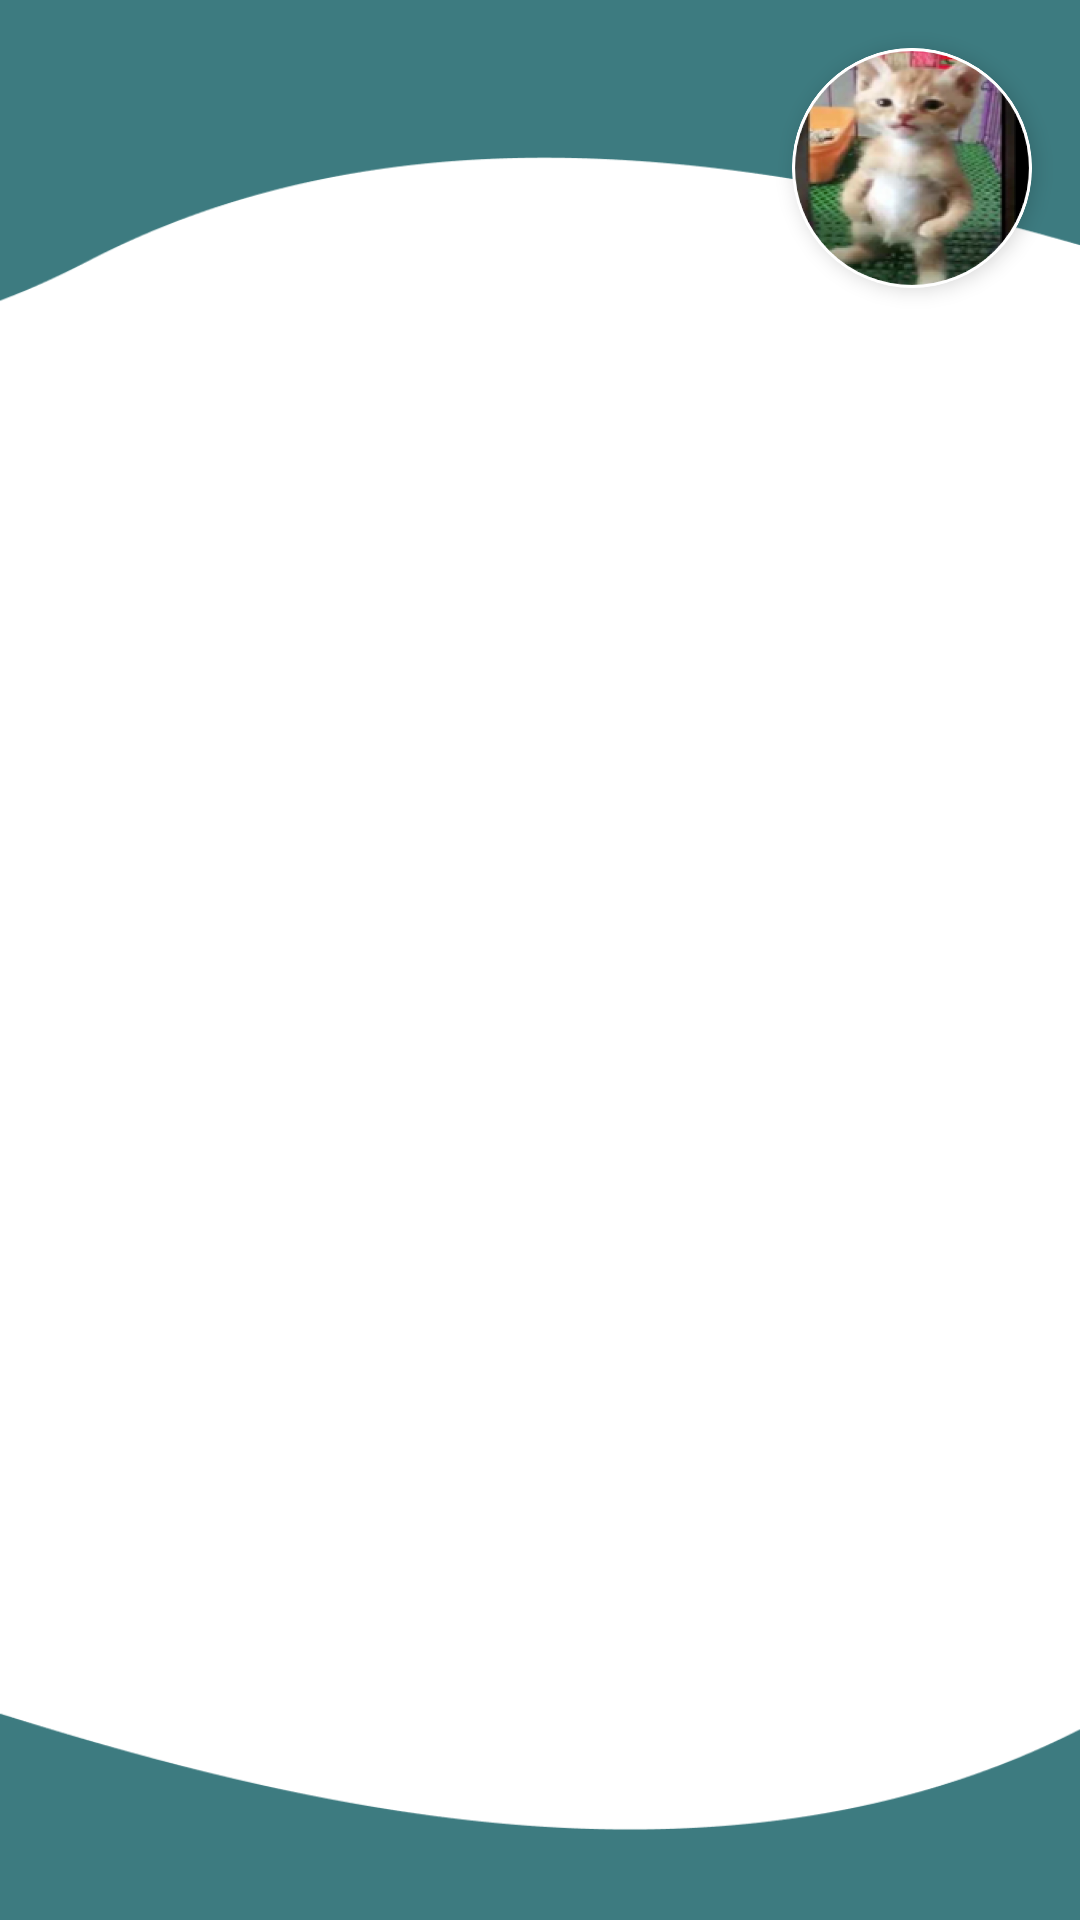

Named icons in this screenshot (1080*1920) and their centers, [x,y]:
user: [912,168]
